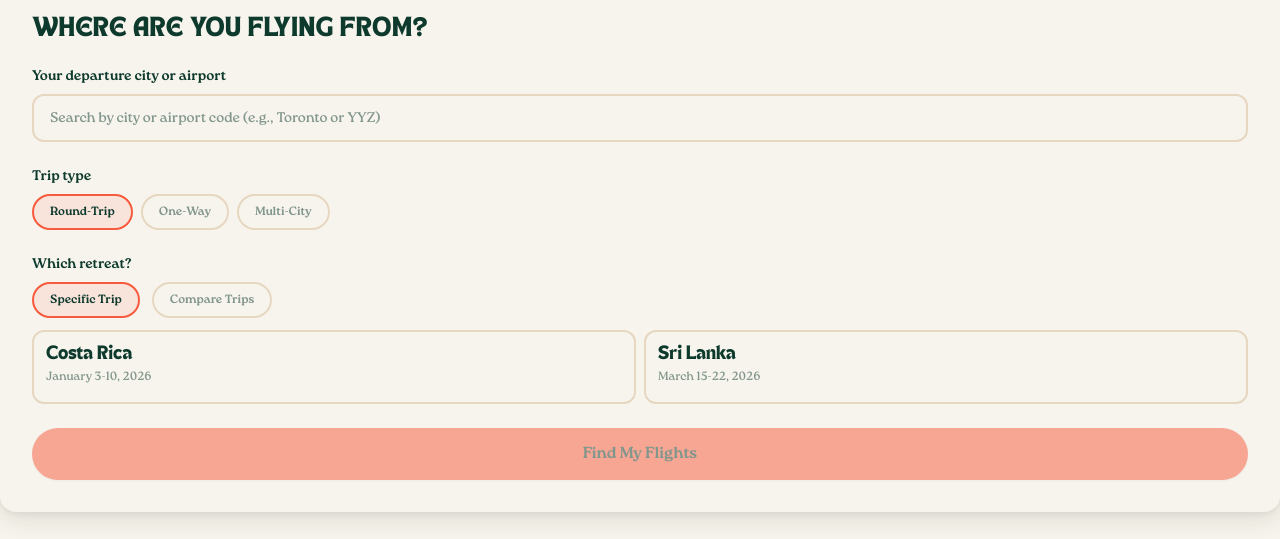
Test case: FlightSearchForm › shows airport suggestions when typing
Type "tor" into the dropdown with placeholder "Search by city or airport code (e.g., Toronto or YYZ)" at x=640, y=118, box [32,94,1248,142]
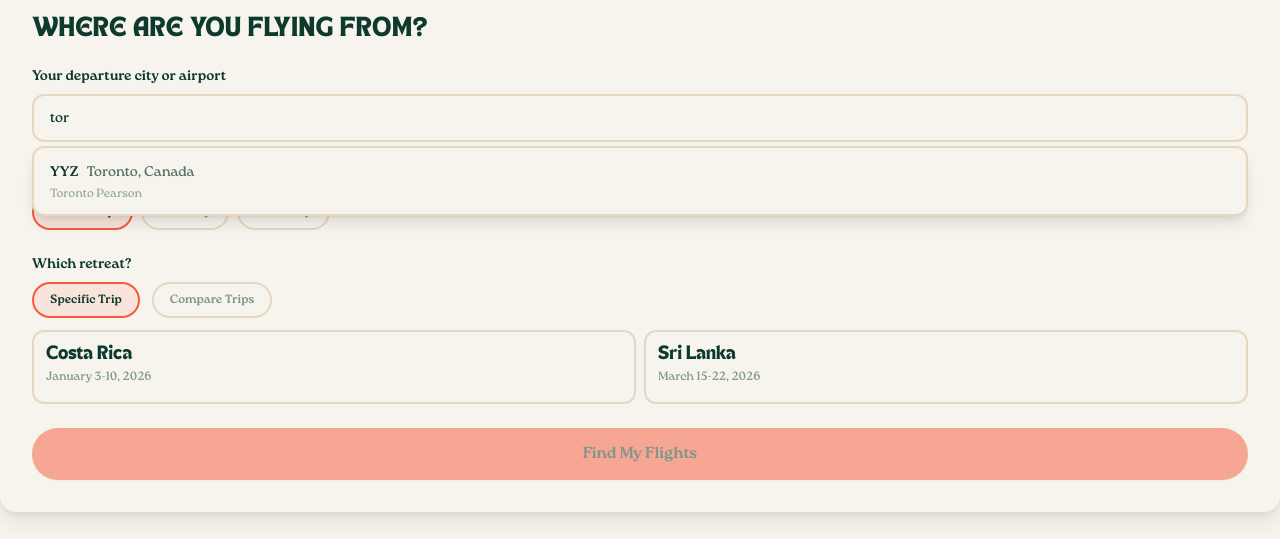
Expected: the text "YYZ" is shown, [50,165,79,179]
Expected: the text "Toronto, Canada" is shown, [87,165,194,179]
